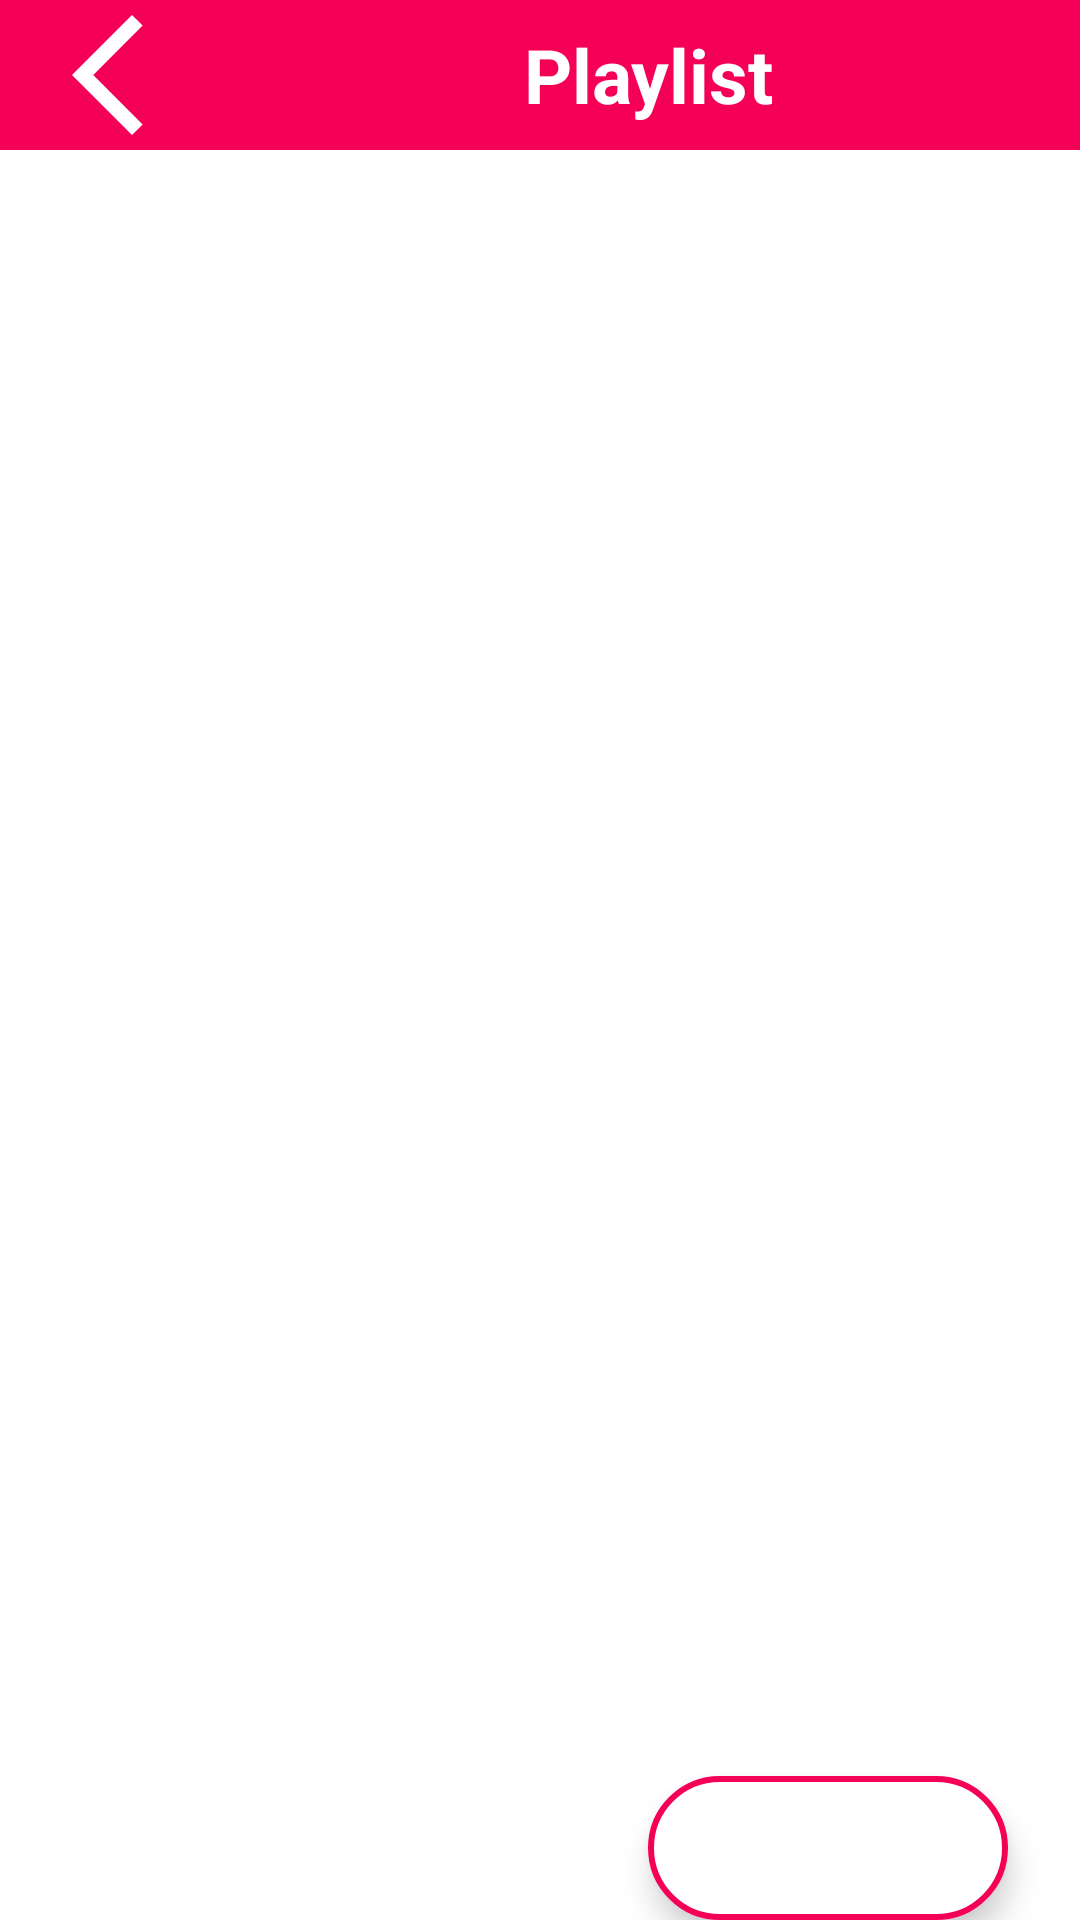

Icon bounding boxes for this 1080w x 1920h phone screenshot, format (x1, y1, x2, y2):
Back: (72, 15, 143, 135)
